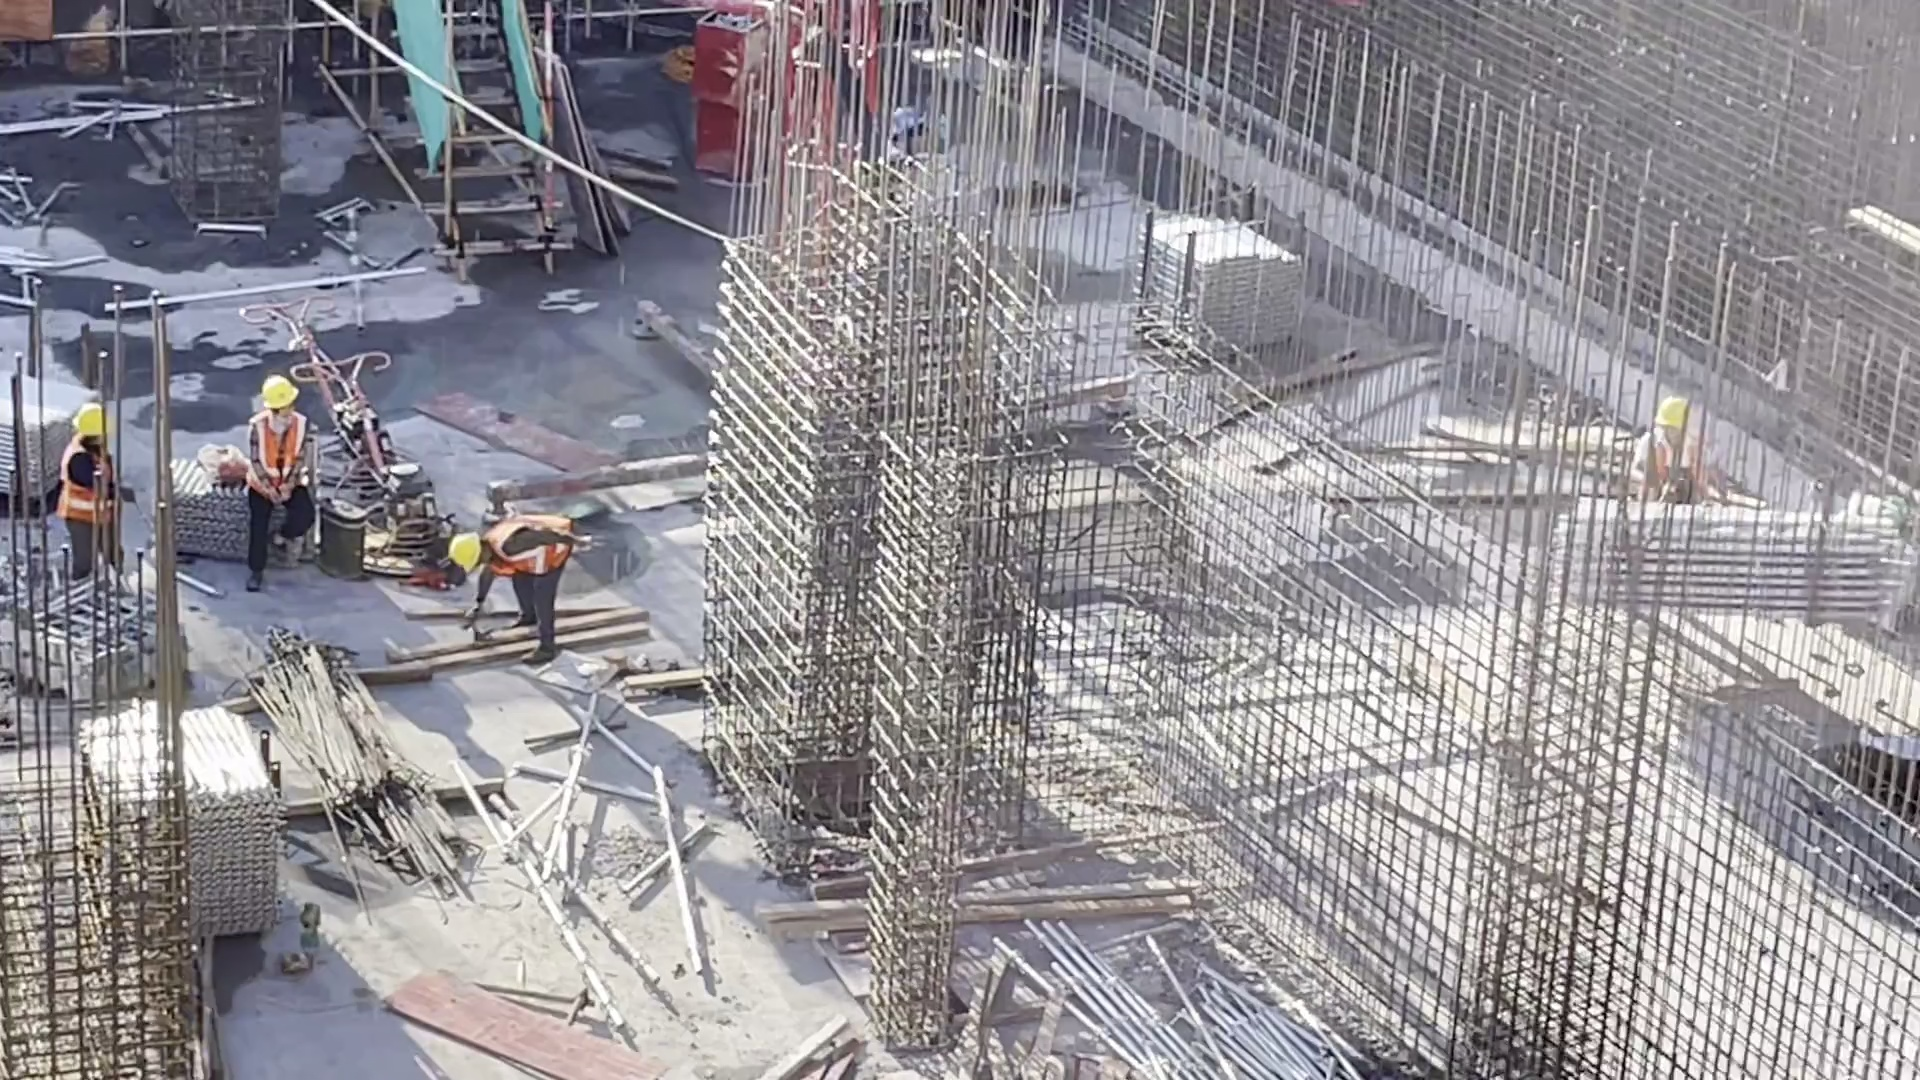helmet: (1649, 395, 1700, 434), (77, 400, 117, 445), (258, 367, 295, 412), (449, 526, 477, 583)
person: (433, 515, 586, 671), (249, 376, 337, 567), (66, 402, 145, 578), (1632, 393, 1734, 515)
scaffold: (71, 694, 287, 965), (1543, 488, 1920, 617), (1138, 208, 1344, 356), (1, 555, 158, 690), (138, 455, 292, 569), (1, 398, 68, 494)
vest: (56, 440, 138, 527), (238, 408, 313, 497), (481, 512, 568, 581), (1639, 432, 1706, 510)
